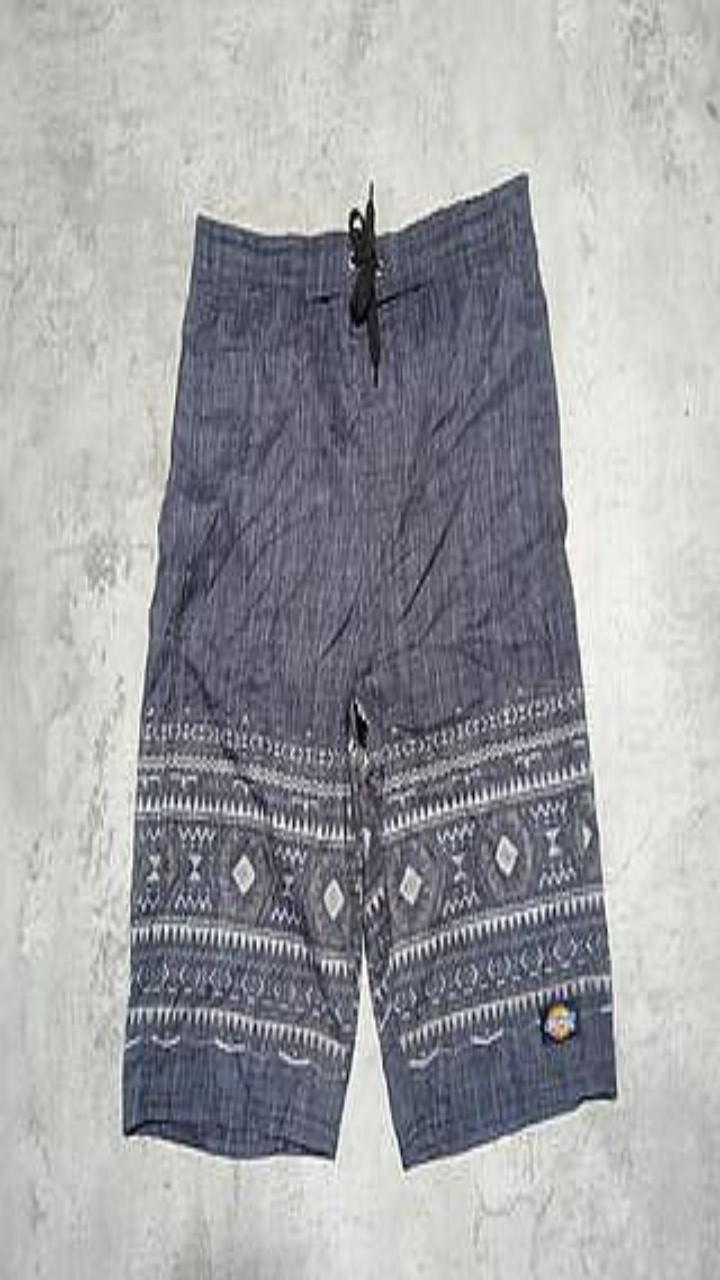Shorts: (123, 173, 615, 1168)
